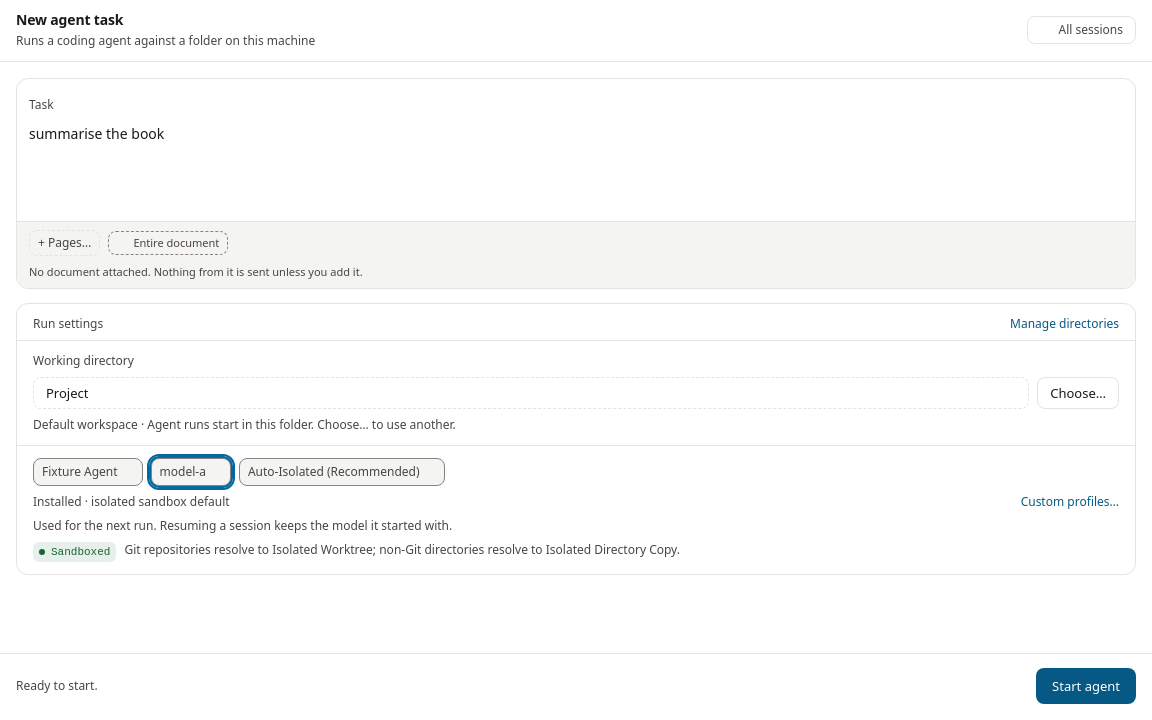
Agent run settings during a same-book refresh › keeps the Agent model menu open and usable while the refresh is pending
The width and height of the screenshot is (1152, 720).
Click the dropdown named "Agent model".
click(191, 472)  # box [151,458,231,486]
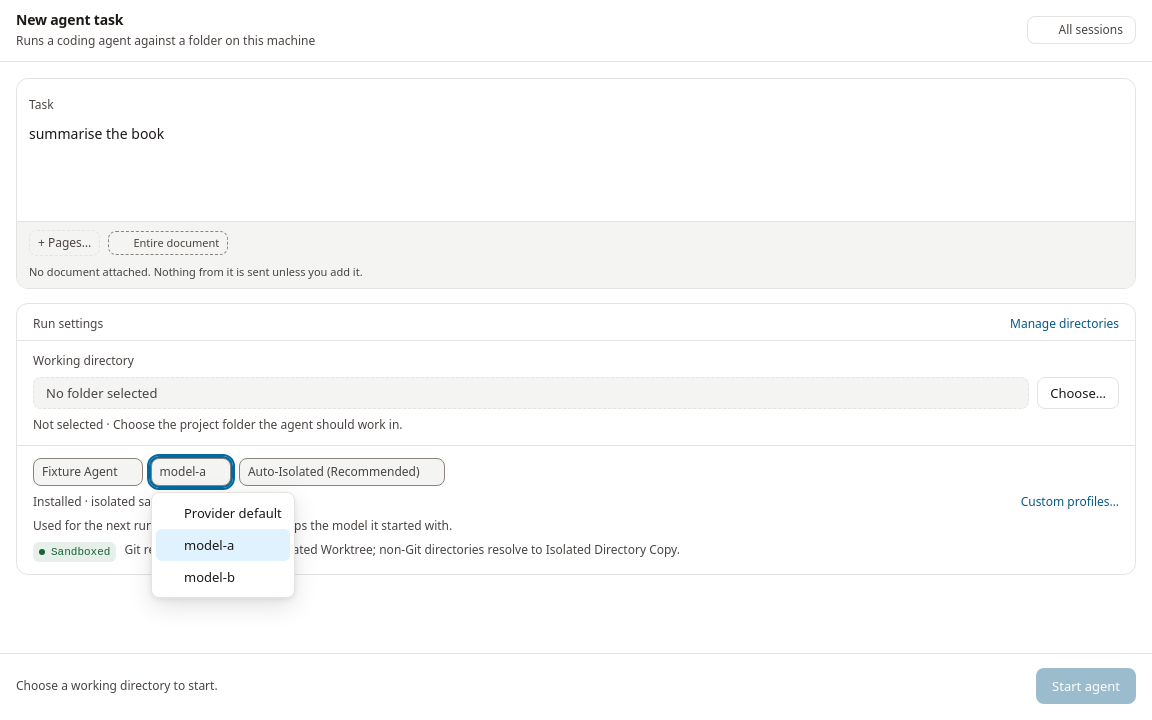
Check: the button with test id "agent-start-button" is disabled, box [1036,668,1136,704]
